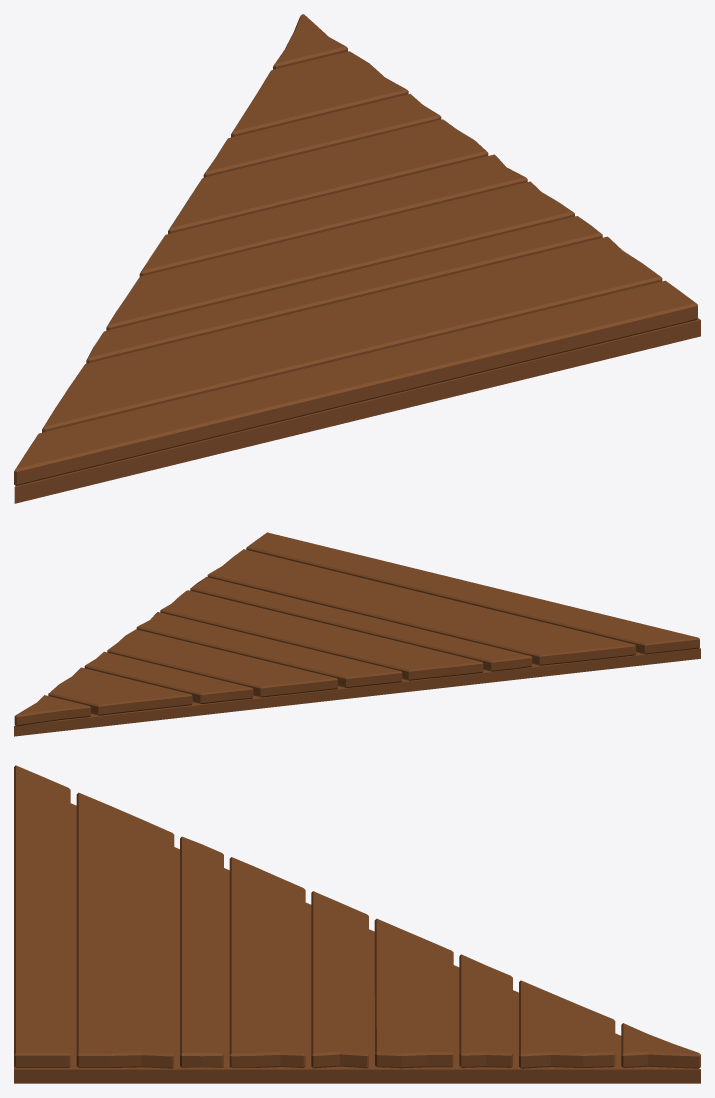
Rendered from ww_floor_c.glb.
3 renders of one model, top to bottom at view 1: azimuth 30°, elevation 25°; view 2: azimuth 150°, elevation 25°; view 3: azimuth 270°, elevation 25°, orthographic. The views are drawn at different scales.
Visible parts, largest first — view 1: Floor_C; view 2: Floor_C; view 3: Floor_C.
Part boxes in pixels (<box>): Floor_C: <box>14,14,700,503</box>; Floor_C: <box>14,532,700,736</box>; Floor_C: <box>14,765,700,1083</box>.
Bounding box in the file's own units: 4.93 × 0.2298 × 4.93.
